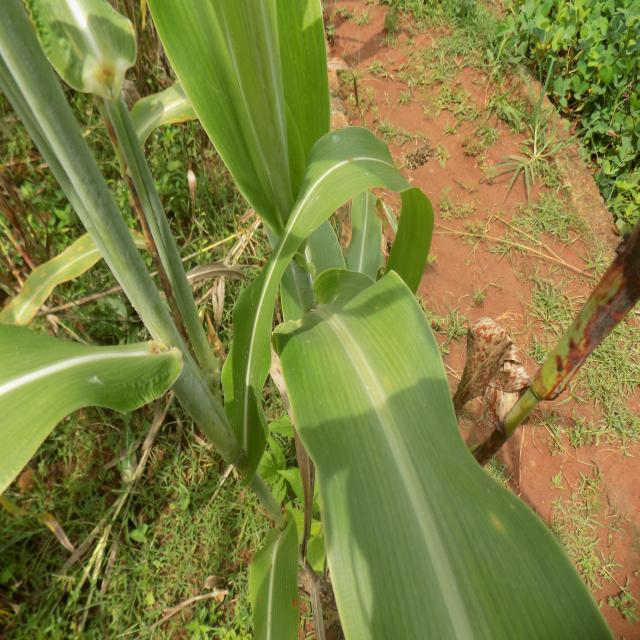millet_healthy: (273, 271, 613, 639), (222, 126, 411, 483), (149, 0, 330, 236), (0, 323, 182, 494), (239, 497, 301, 640)
